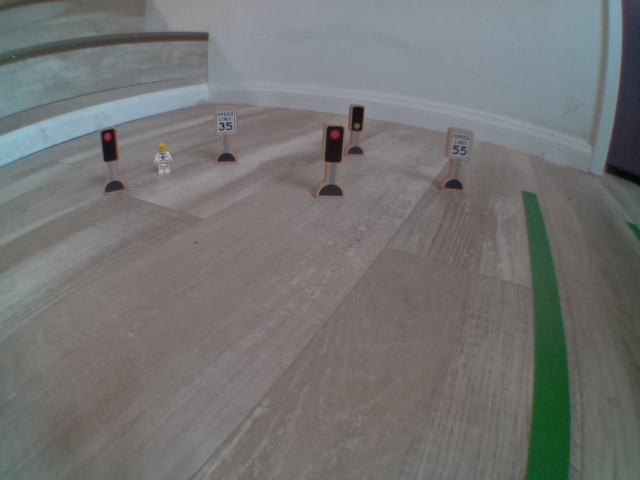Green Traffic Light: (348, 100, 368, 136)
Red Traffic Light: (322, 122, 345, 167), (97, 128, 119, 163)
Speed Limit 35: (214, 104, 241, 138)
Speed Limit 55: (447, 125, 475, 167)
person: (147, 139, 180, 177)
